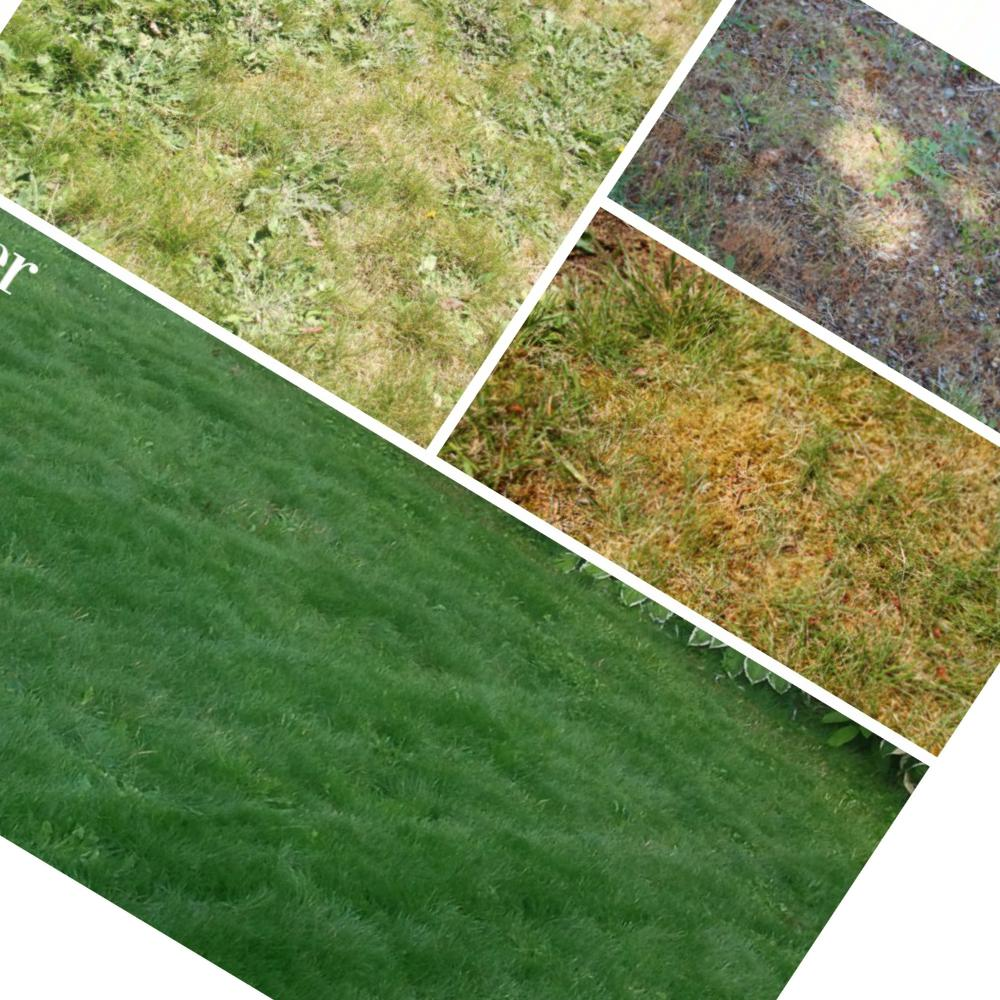patch: (72, 11, 508, 211), (638, 390, 859, 592), (760, 72, 949, 281)
